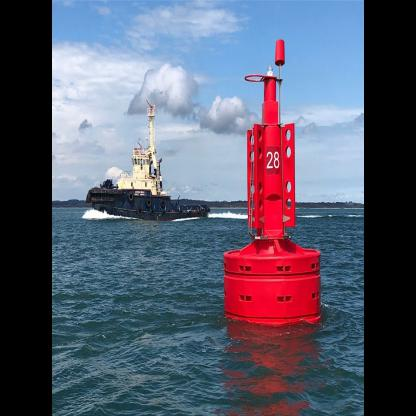buoy: (221, 31, 326, 346)
